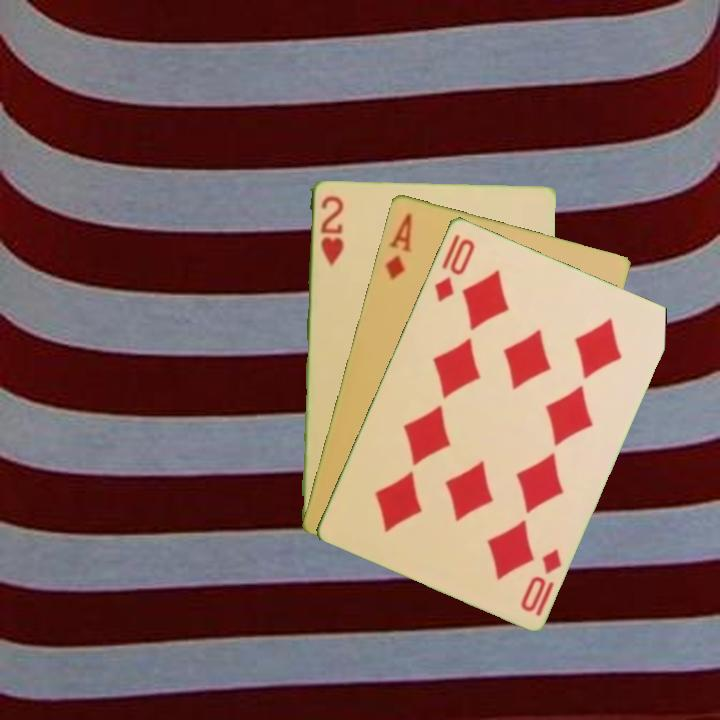10d: (517, 544, 565, 615), (431, 234, 478, 304)
2h: (316, 192, 346, 269)
Ad: (381, 209, 415, 283)
